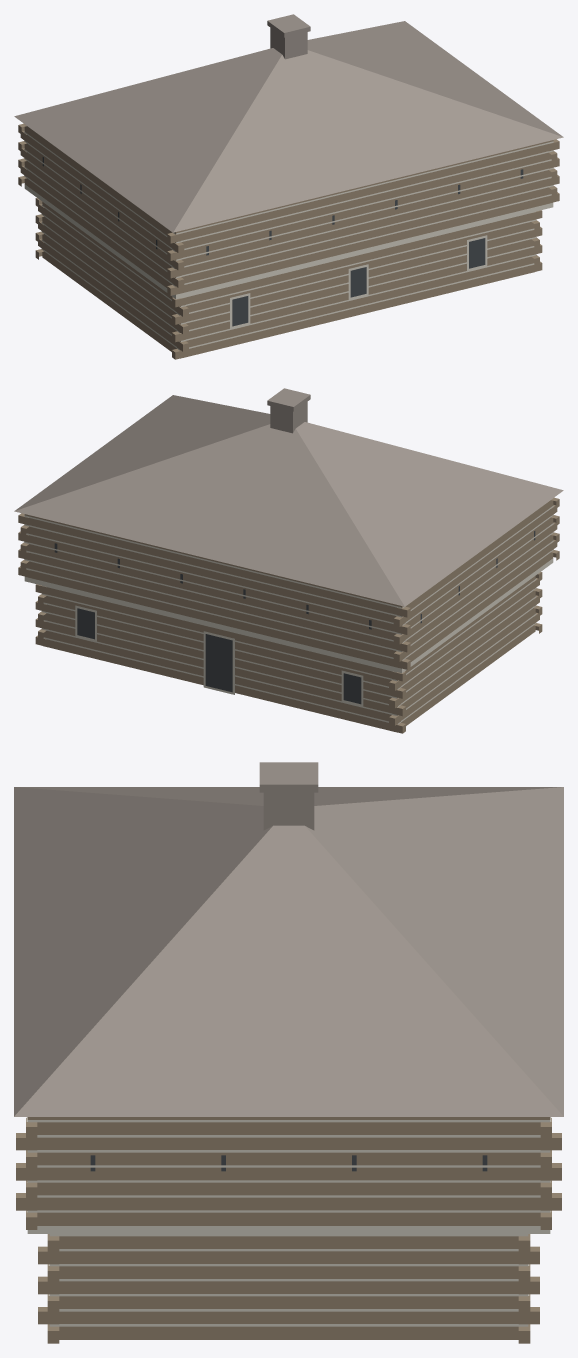
Rendered from fort_dearborn_blockhouse__log_1816.glb.
The picture shows the model from 3 angles, top to bottom: view 1: azimuth 30°, elevation 25°; view 2: azimuth 150°, elevation 25°; view 3: azimuth 270°, elevation 25°; orthographic projection. The views are drawn at different scales.
Parts seen in each view (by area): view 1: fort_dearborn_blockhouse__log_1816; view 2: fort_dearborn_blockhouse__log_1816; view 3: fort_dearborn_blockhouse__log_1816.
Boxes of the visible parts, x1=… form: fort_dearborn_blockhouse__log_1816: x1=14, y1=14, x2=563, y2=359; fort_dearborn_blockhouse__log_1816: x1=14, y1=388, x2=563, y2=733; fort_dearborn_blockhouse__log_1816: x1=14, y1=762, x2=563, y2=1343.
Bounding box in the file's own units: 15.98 × 9.48 × 11.26.
